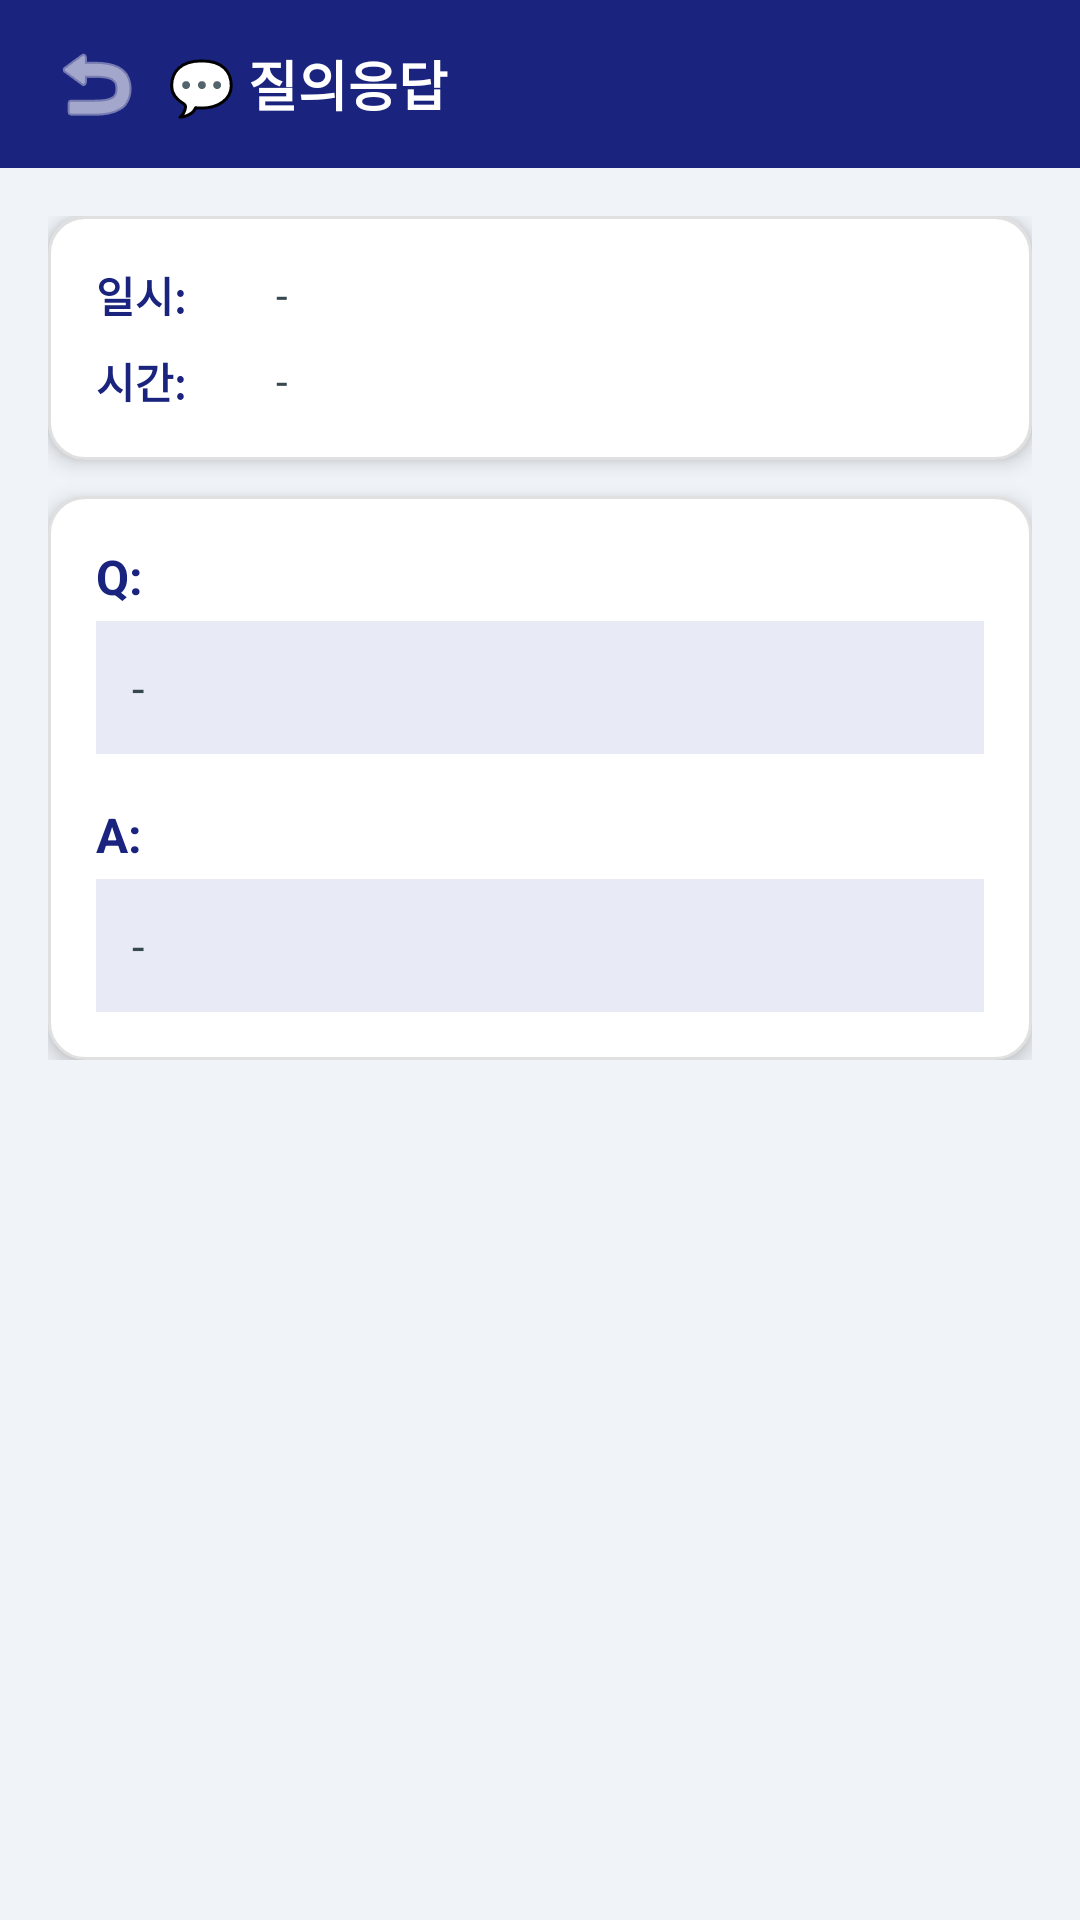

Icon click points for this 1080px×1920px phone screenshot, format (x=x, y=y):
revert: (x=97, y=84)
